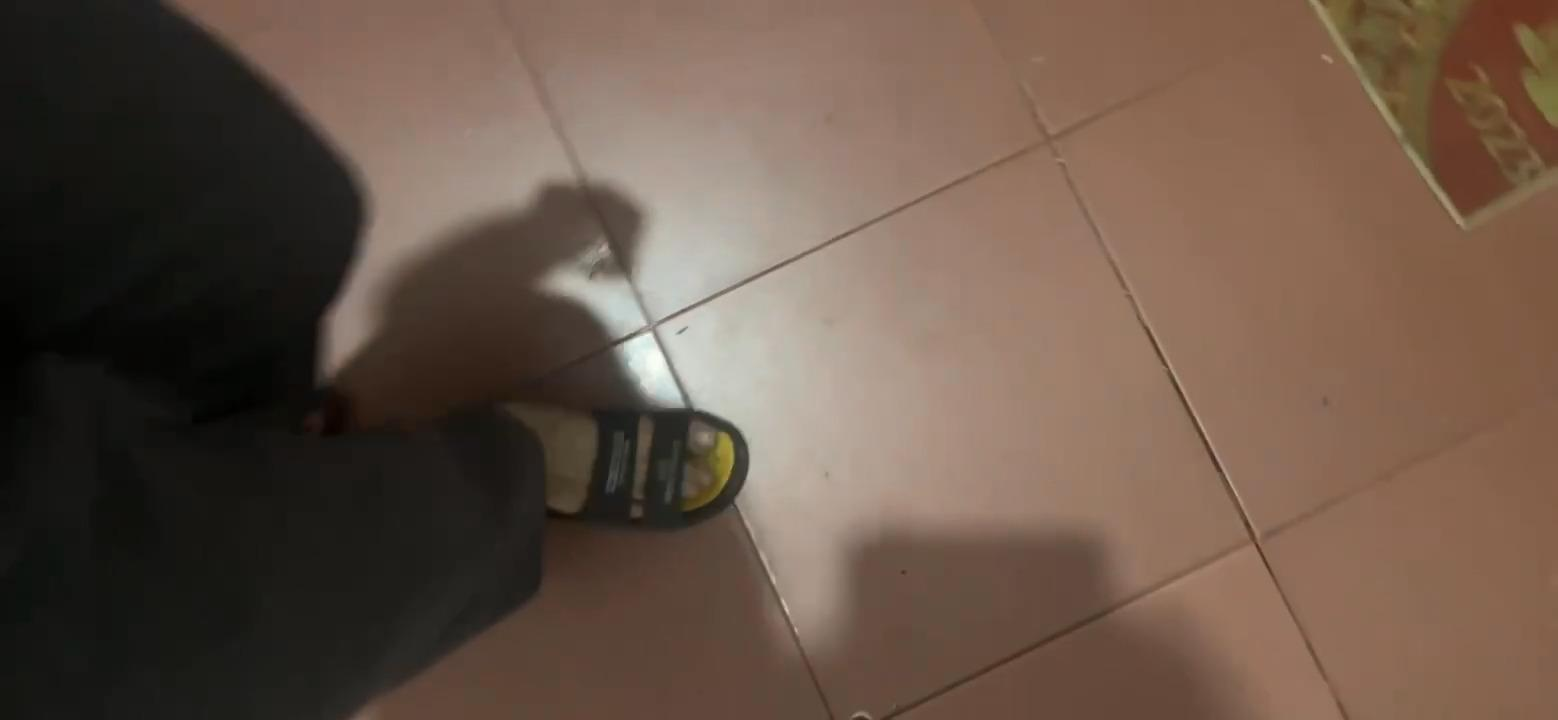no-boot: (487, 381, 770, 534)
